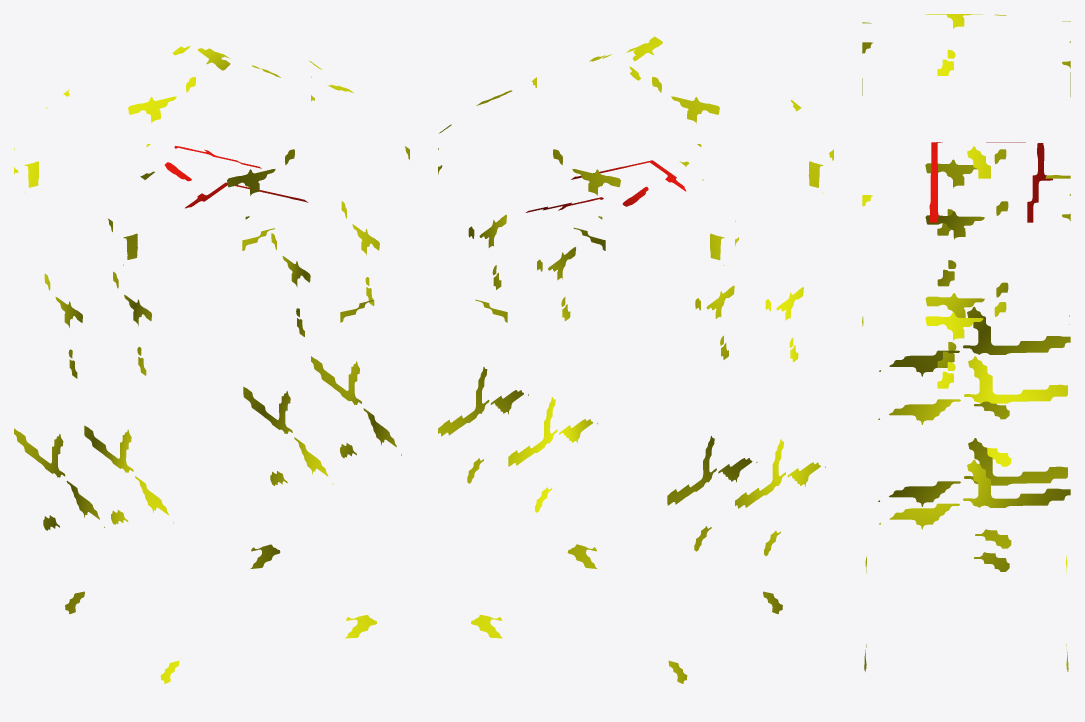
File: DoorFrame.fbx
3 renders of one model, left to right at view 1: azimuth 30°, elevation 25°; view 2: azimuth 150°, elevation 25°; view 3: azimuth 270°, elevation 25°, orthographic. The views are drawn at different scales.
Parts seen in each view (by area): view 1: Tunnel Small; view 2: Tunnel Small; view 3: Tunnel Small.
Boxes of the visible parts, box(x1,y1,x2,y2) form: Tunnel Small: box(14, 46, 409, 683); Tunnel Small: box(438, 36, 833, 683); Tunnel Small: box(862, 14, 1070, 671).
Bounding box in the file's own units: 2.6 × 4.9 × 1.5.
